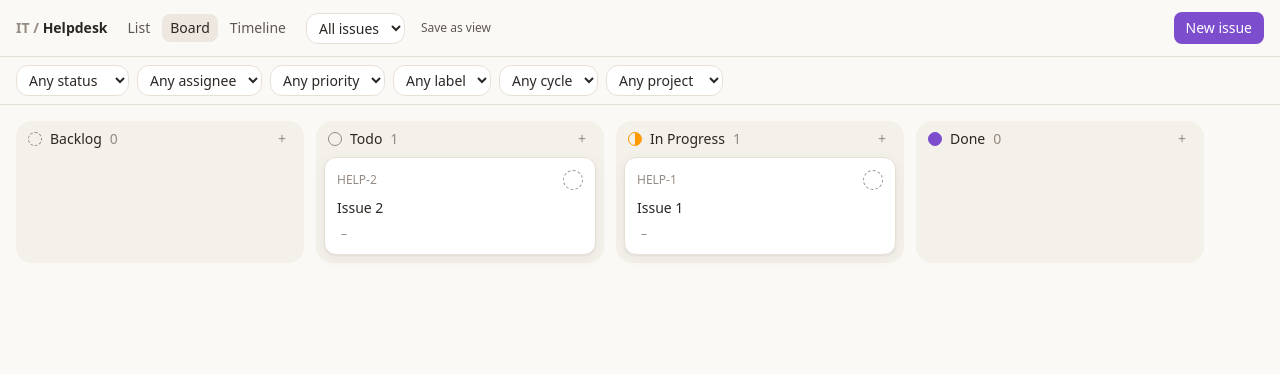
Test: TeamIssuesPage › opens the issue menu on right click and applies the change
Right-click the text "Issue 2" at (360, 208), box [337, 198, 383, 217]
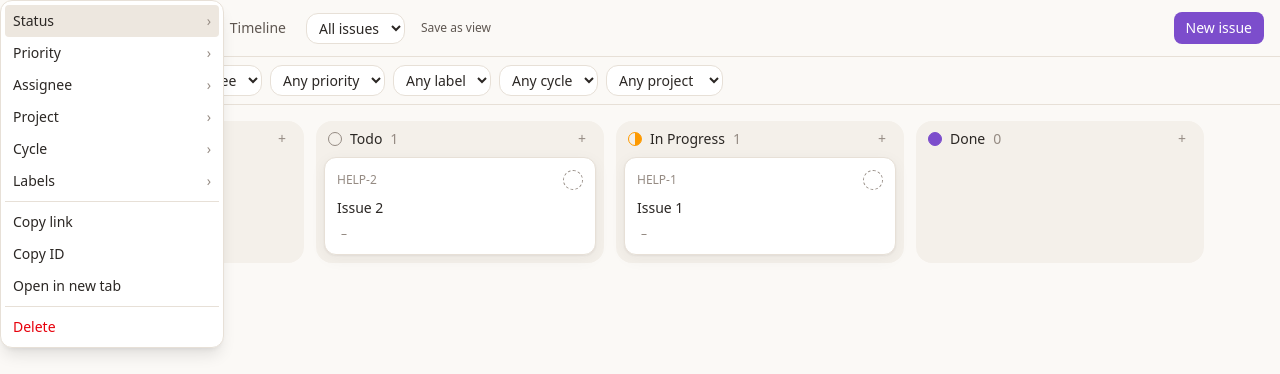
Click the menu item "Priority ›" at (112, 53), box [5, 37, 219, 69]
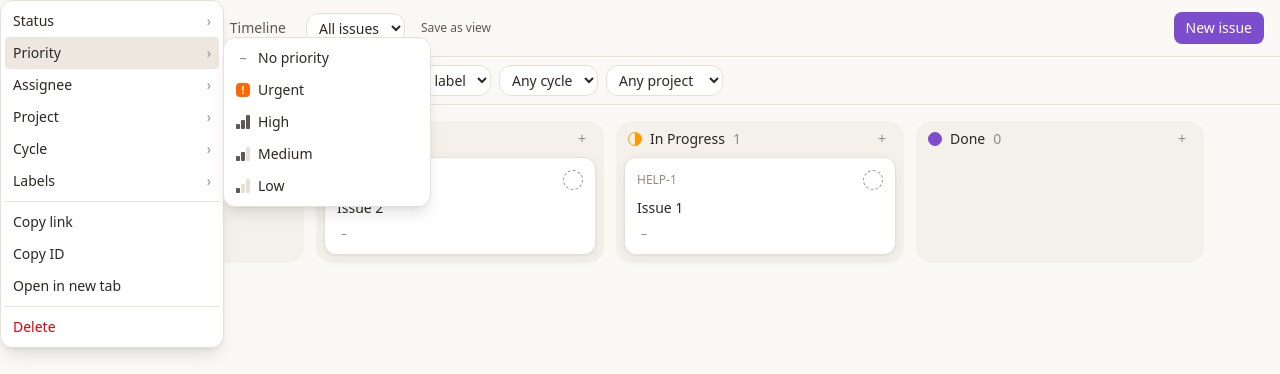
Click the menu item "High" at (327, 122), box [228, 106, 426, 138]
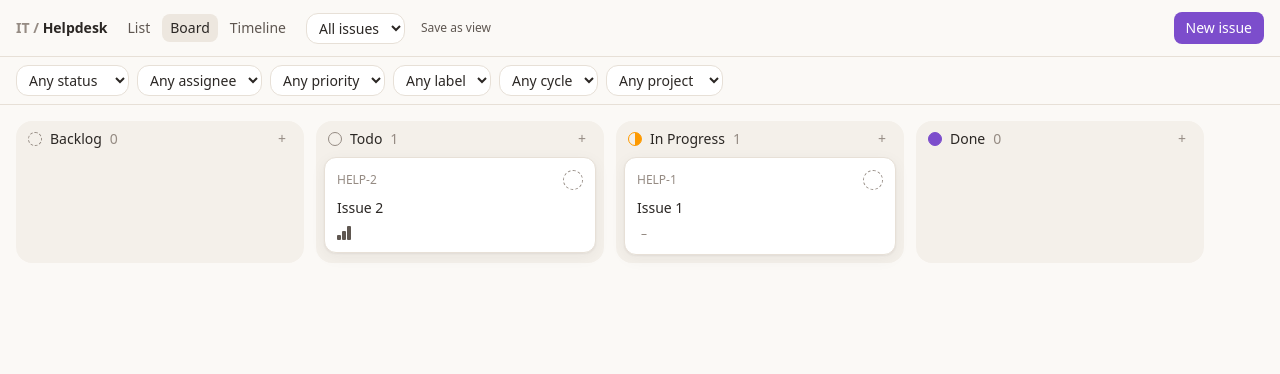
Expected: the menu is gone
